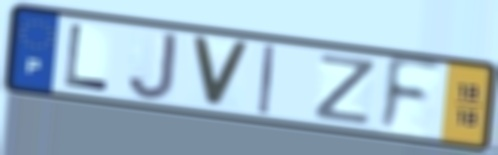F: (375, 53, 444, 135)
I: (256, 41, 278, 118)
J: (125, 30, 181, 103)
L: (61, 21, 111, 95)
V: (188, 33, 254, 112)
Z: (311, 51, 380, 128)
